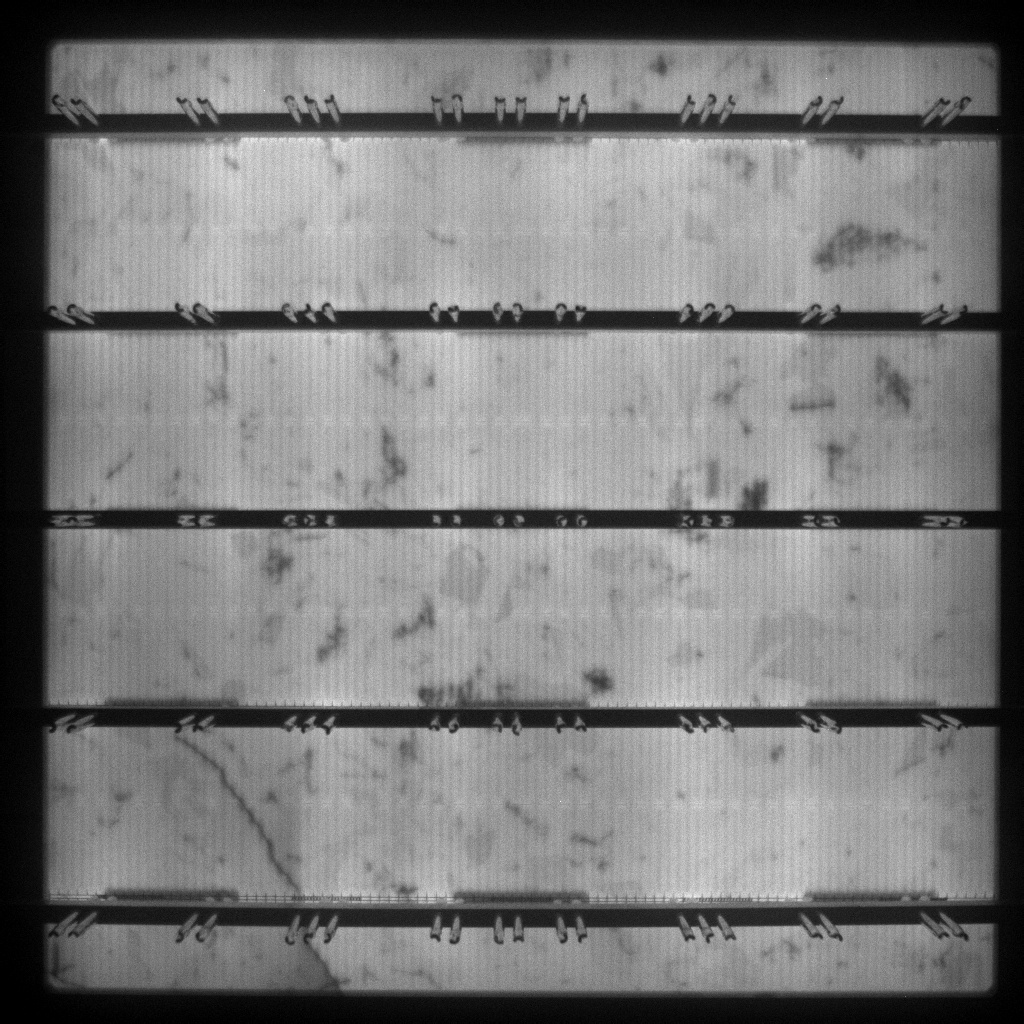crack: (172, 736, 304, 886), (301, 946, 344, 987), (48, 944, 80, 985)
